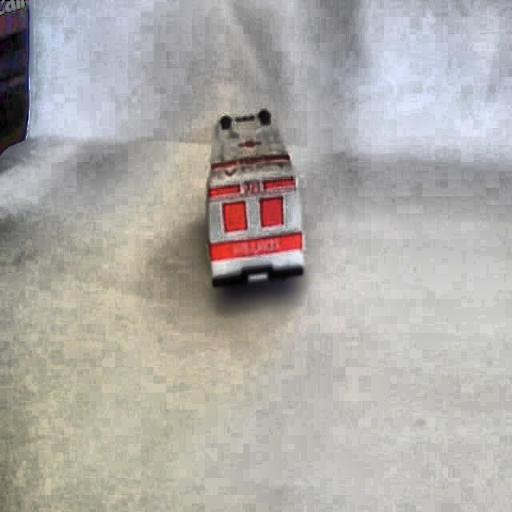ambulance: (205, 108, 305, 288)
